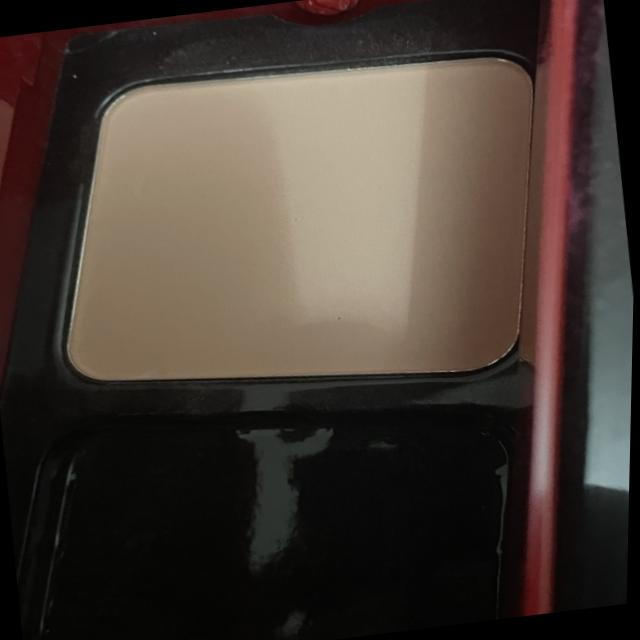powder: (19, 22, 552, 429)
